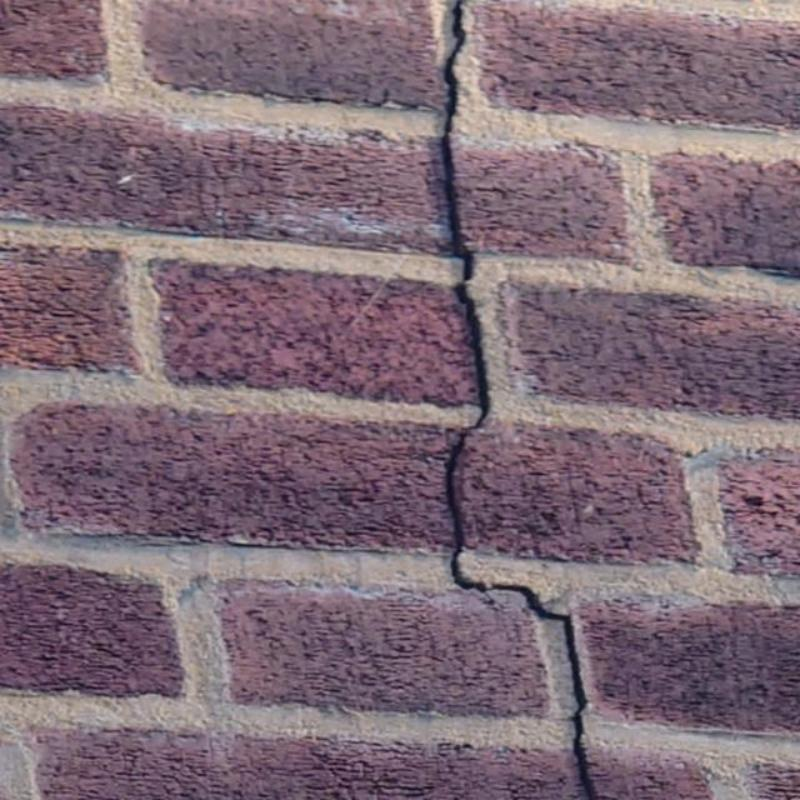pothole: (442, 0, 596, 800)
